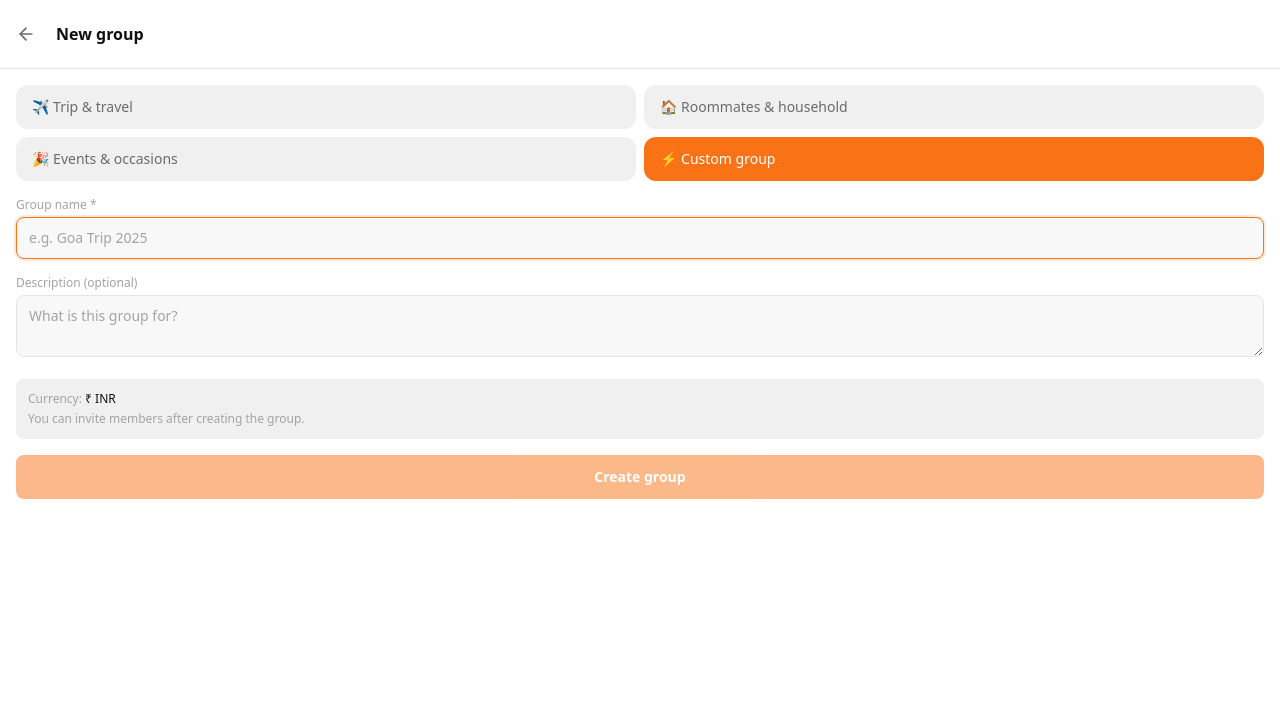
Scenario: CreateGroupPage › does not navigate or report success when the atomic creation RPC fails
Type "Goa trip" into the field with placeholder "e.g. Goa Trip 2025" at (640, 238), box [16, 217, 1264, 259]
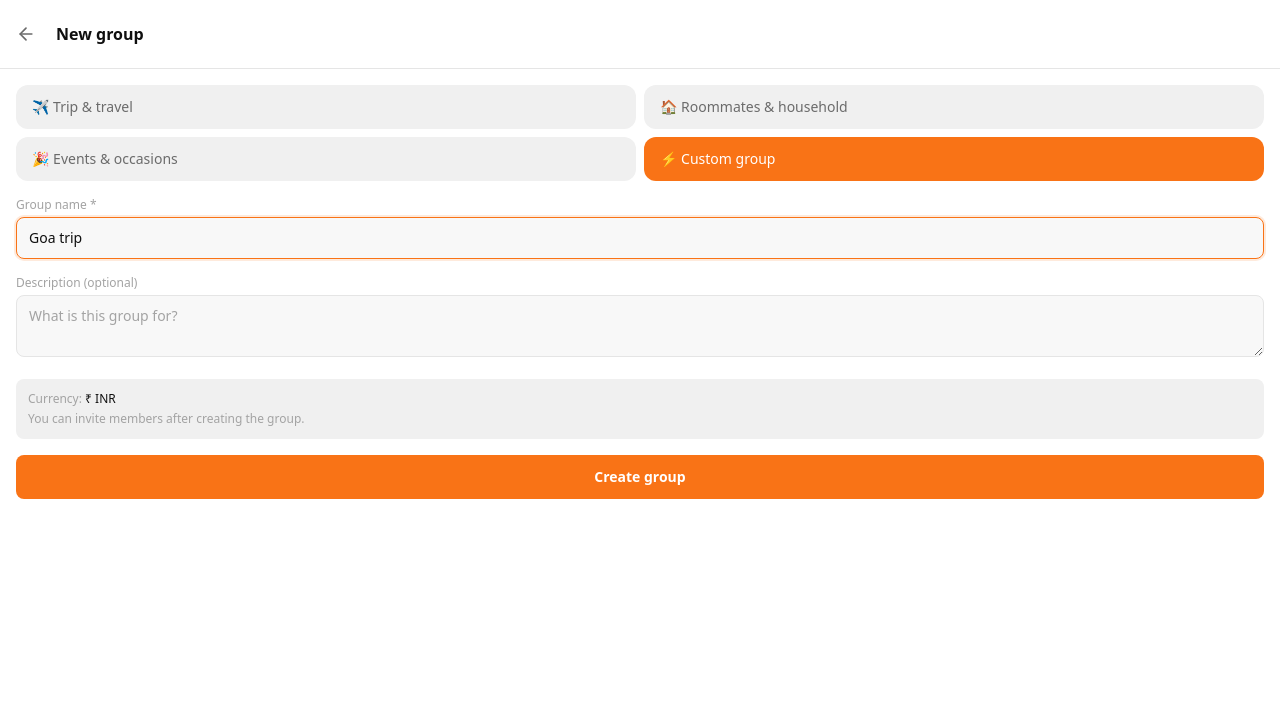
Click the button "Create group" at (640, 477), box [16, 455, 1264, 499]
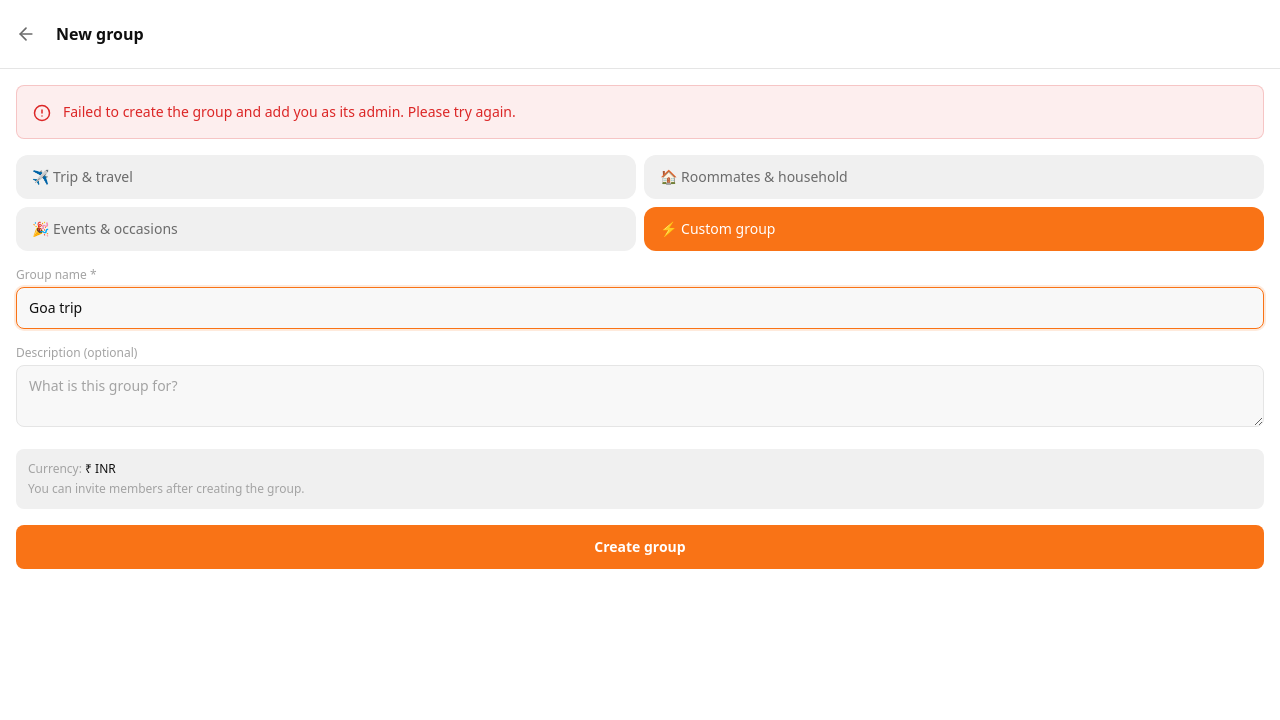
Expected: the text "Failed to create the group and add you as its admin" is shown, [63, 102, 516, 121]
